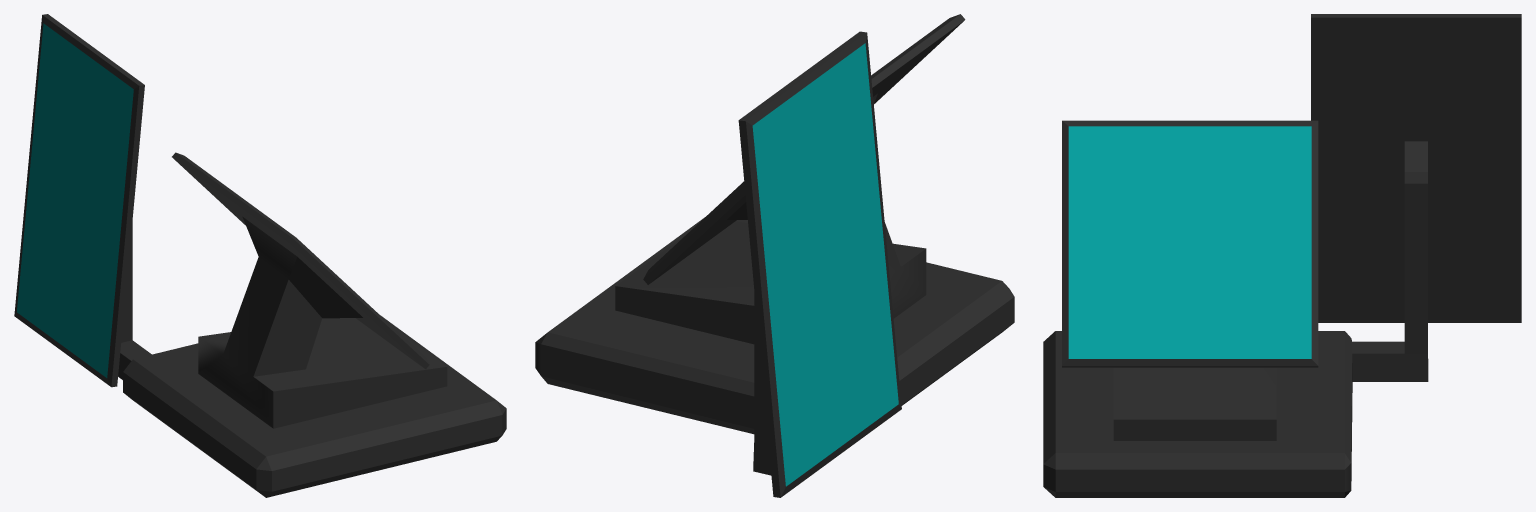
File: cash_register.fbx
3 views of the same model, side by side, from view 1: azimuth 30°, elevation 25°; view 2: azimuth 150°, elevation 25°; view 3: azimuth 270°, elevation 25° (orthographic). The views are drawn at different scales.
Parts seen in each view (by area): view 1: cash_register; view 2: cash_register; view 3: cash_register.
Boxes of the visible parts, box(x1,y1,x2,y2) form: cash_register: box(14, 14, 506, 497); cash_register: box(535, 14, 1014, 497); cash_register: box(1043, 14, 1521, 497).
Size of the model in its own units: 0.2492 by 0.2806 by 0.3412.
